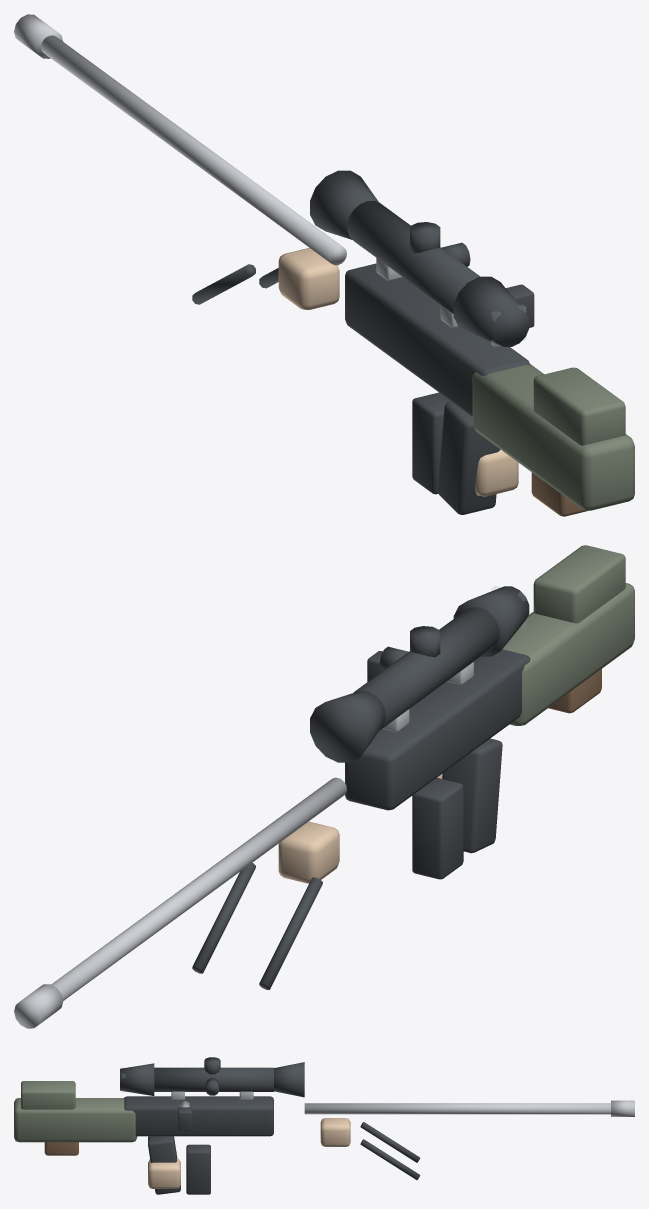
File: sniper.glb
3 views of the same model, one above another, from view 1: azimuth 30°, elevation 25°; view 2: azimuth 150°, elevation 25°; view 3: azimuth 270°, elevation 25° (orthographic). The views are drawn at different scales.
Visible parts, largest first — view 1: WeaponMesh, Mag; view 2: WeaponMesh, Mag; view 3: WeaponMesh, Mag.
Boxes of the visible parts, x1,y1,x2,y2 form: WeaponMesh: (14, 14, 634, 516); Mag: (412, 392, 450, 494); WeaponMesh: (14, 545, 634, 1028); Mag: (412, 778, 463, 879); WeaponMesh: (14, 1057, 634, 1194); Mag: (186, 1144, 210, 1194).
Bounding box in the file's own units: 0.105 × 0.211 × 0.9075.
